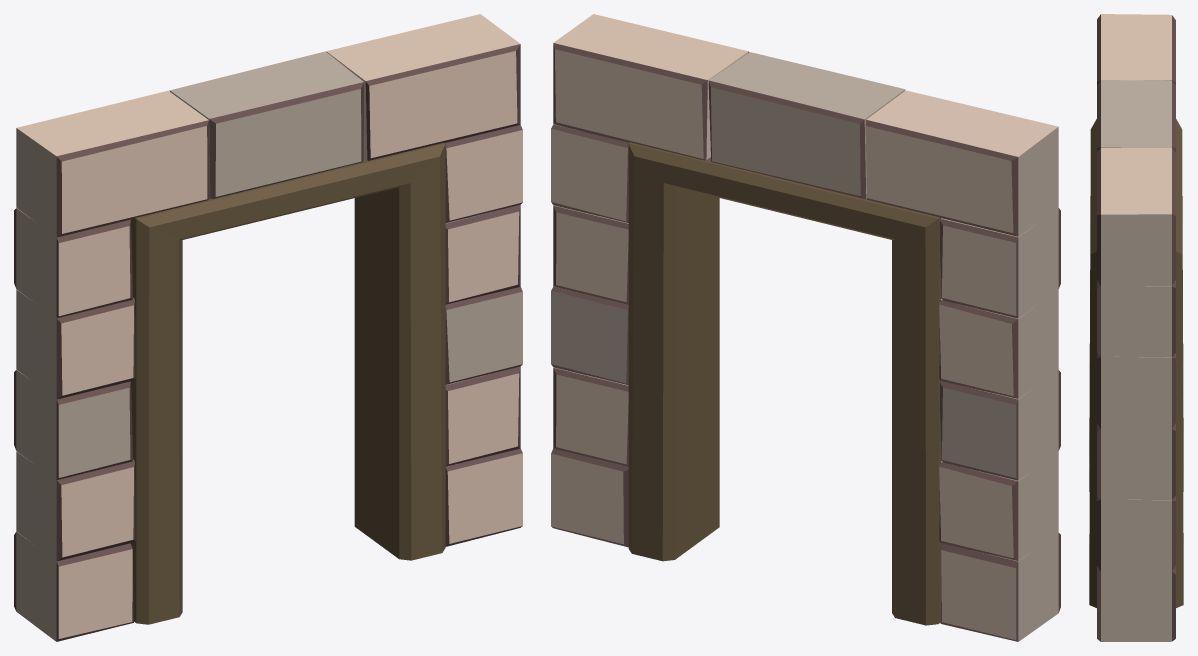
Rendered from greek_wall_1_door.fbx.
The picture shows the model from 3 angles, left to right: view 1: azimuth 30°, elevation 25°; view 2: azimuth 150°, elevation 25°; view 3: azimuth 270°, elevation 25°; orthographic projection. The views are drawn at different scales.
Parts seen in each view (by area): view 1: Cube.012; view 2: Cube.012; view 3: Cube.012.
Part boxes in pixels (bbox=[...]): Cube.012: bbox=[14, 14, 522, 641]; Cube.012: bbox=[551, 14, 1060, 641]; Cube.012: bbox=[1089, 14, 1183, 641].
Bounding box in the file's own units: 300 × 300 × 60.
